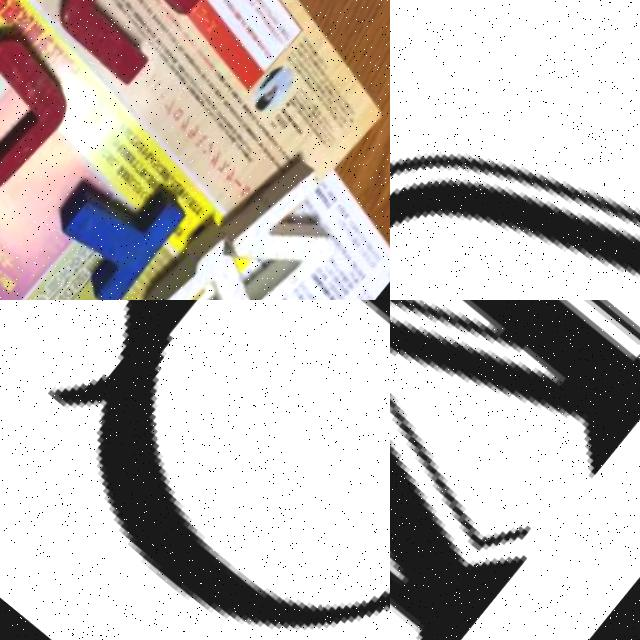M: (390, 300, 640, 640)
O: (0, 15, 84, 204)
Q: (0, 300, 390, 640), (109, 220, 276, 300)
T: (30, 134, 198, 300)
U: (390, 0, 640, 300), (38, 0, 219, 97)
Z: (201, 149, 362, 300)
